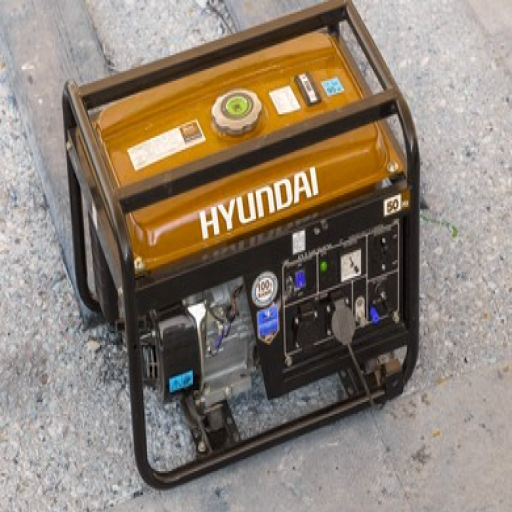portable_generator: (62, 1, 421, 492)
